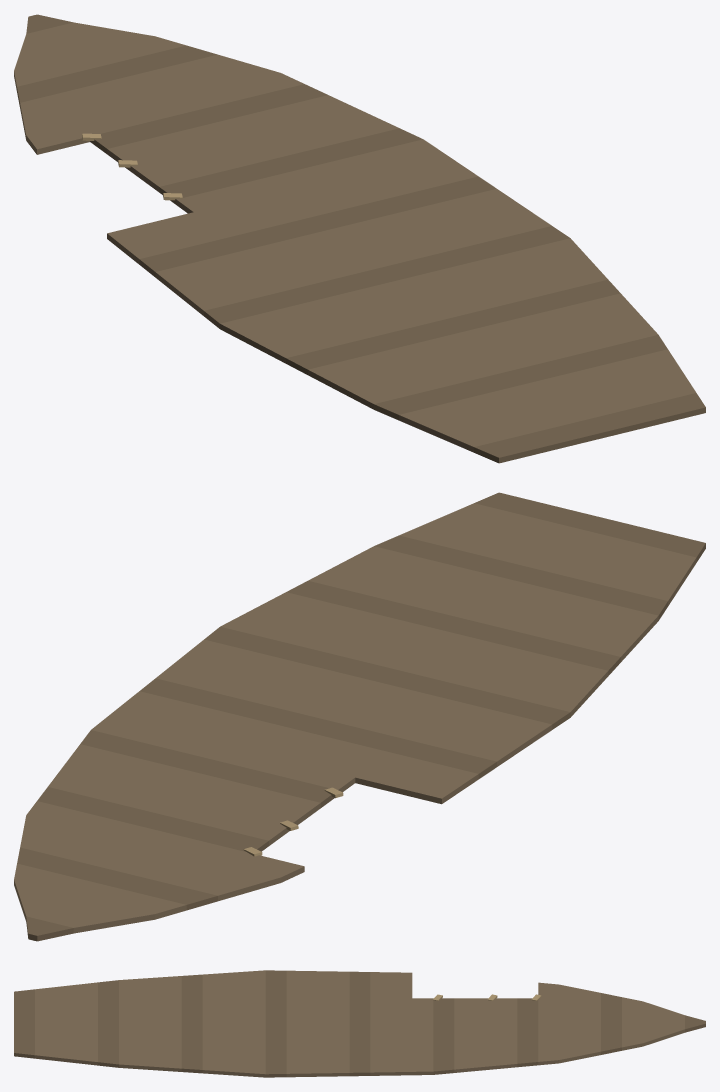
File: SW_Deck_Cog.fbx
The picture shows the model from 3 angles, top to bottom: view 1: azimuth 30°, elevation 25°; view 2: azimuth 150°, elevation 25°; view 3: azimuth 270°, elevation 25°; orthographic projection. The views are drawn at different scales.
Visible parts, largest first — view 1: SW_Deck_Cog; view 2: SW_Deck_Cog; view 3: SW_Deck_Cog.
Part boxes in pixels (bbox=[...]): SW_Deck_Cog: bbox=[14, 14, 705, 463]; SW_Deck_Cog: bbox=[14, 492, 705, 941]; SW_Deck_Cog: bbox=[14, 970, 705, 1077].
Size of the model in its own units: 11.72 by 0.2499 by 33.
